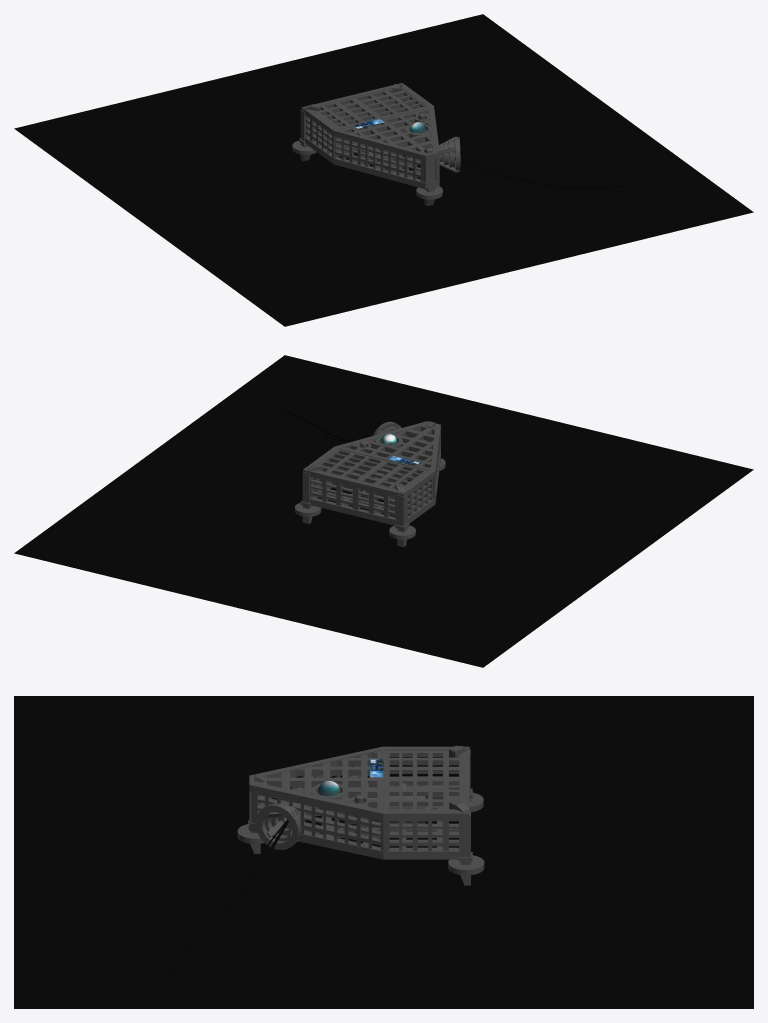
File: OBSEAStation.glb
3 views of the same model, one above another, from view 1: azimuth 30°, elevation 25°; view 2: azimuth 150°, elevation 25°; view 3: azimuth 270°, elevation 25° (orthographic). The views are drawn at different scales.
Parts seen in each view (by area): view 1: OBSEABottomAO, OBSEA3DV4, Cable2; view 2: OBSEABottomAO, OBSEA3DV4; view 3: OBSEABottomAO, OBSEA3DV4, Cable2.
Part boxes in pixels (x1,y1,x2,y2): OBSEABottomAO: [14, 14, 753, 326]; OBSEA3DV4: [292, 83, 460, 206]; Cable2: [443, 156, 648, 188]; OBSEABottomAO: [14, 355, 753, 667]; OBSEA3DV4: [295, 421, 445, 547]; OBSEABottomAO: [14, 696, 753, 1008]; OBSEA3DV4: [237, 745, 484, 885]; Cable2: [168, 820, 288, 976].
Size of the model in its own units: 10 by 1.32 by 10.
Materials: 6 (4 with a texture image).
